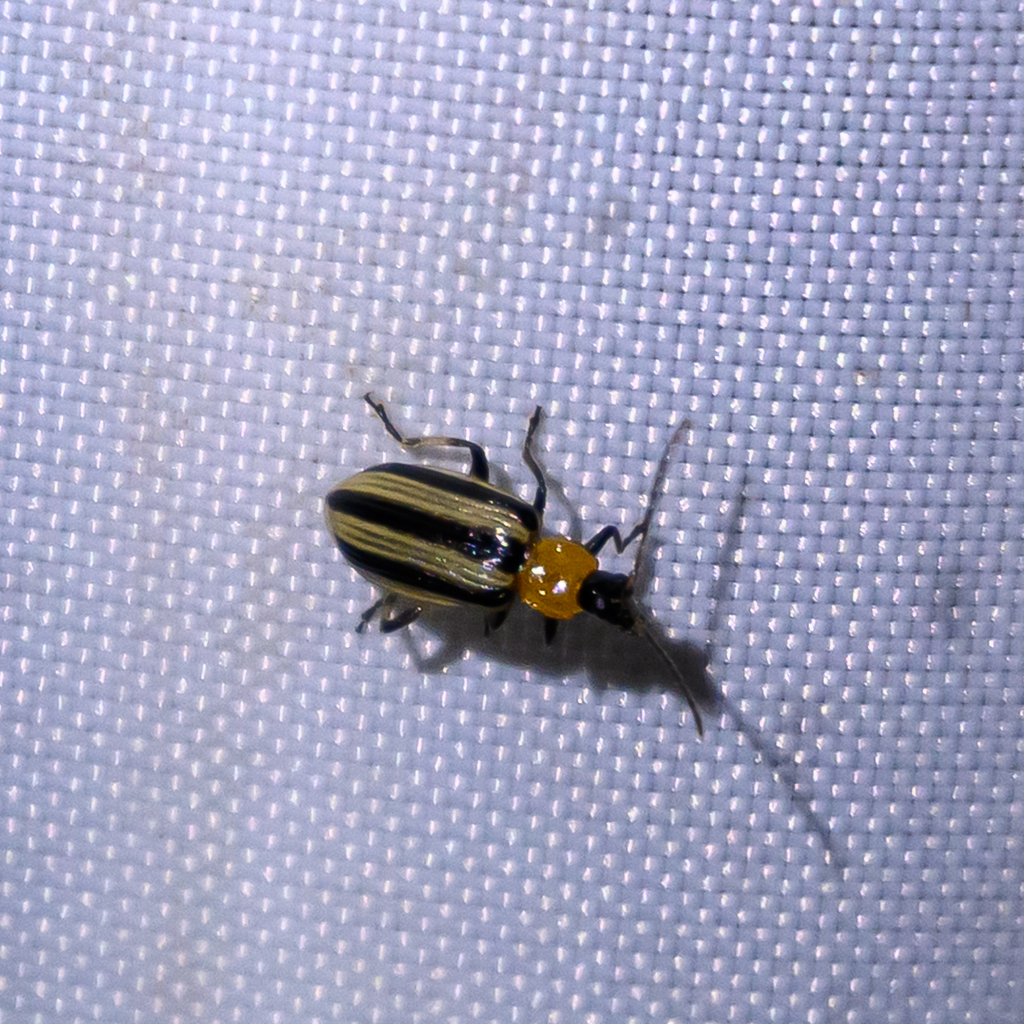potato_beetle: (207, 321, 826, 818)
